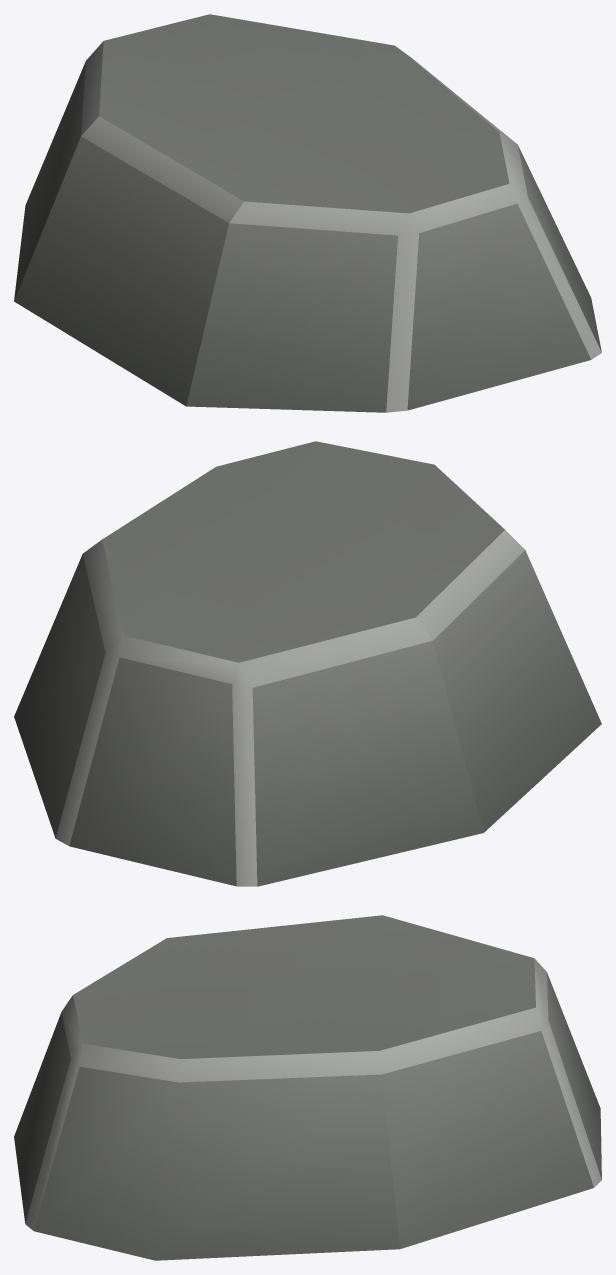
File: Rock-1-8.fbx
3 views of the same model, one above another, from view 1: azimuth 30°, elevation 25°; view 2: azimuth 150°, elevation 25°; view 3: azimuth 270°, elevation 25° (orthographic). The views are drawn at different scales.
Parts seen in each view (by area): view 1: Rock-1-8; view 2: Rock-1-8; view 3: Rock-1-8.
Part boxes in pixels (x1=…): Rock-1-8: x1=14, y1=14, x2=601, y2=412; Rock-1-8: x1=14, y1=441, x2=601, y2=886; Rock-1-8: x1=14, y1=915, x2=601, y2=1260.
Size of the model in its own units: 58.82 by 23.22 by 71.06.
